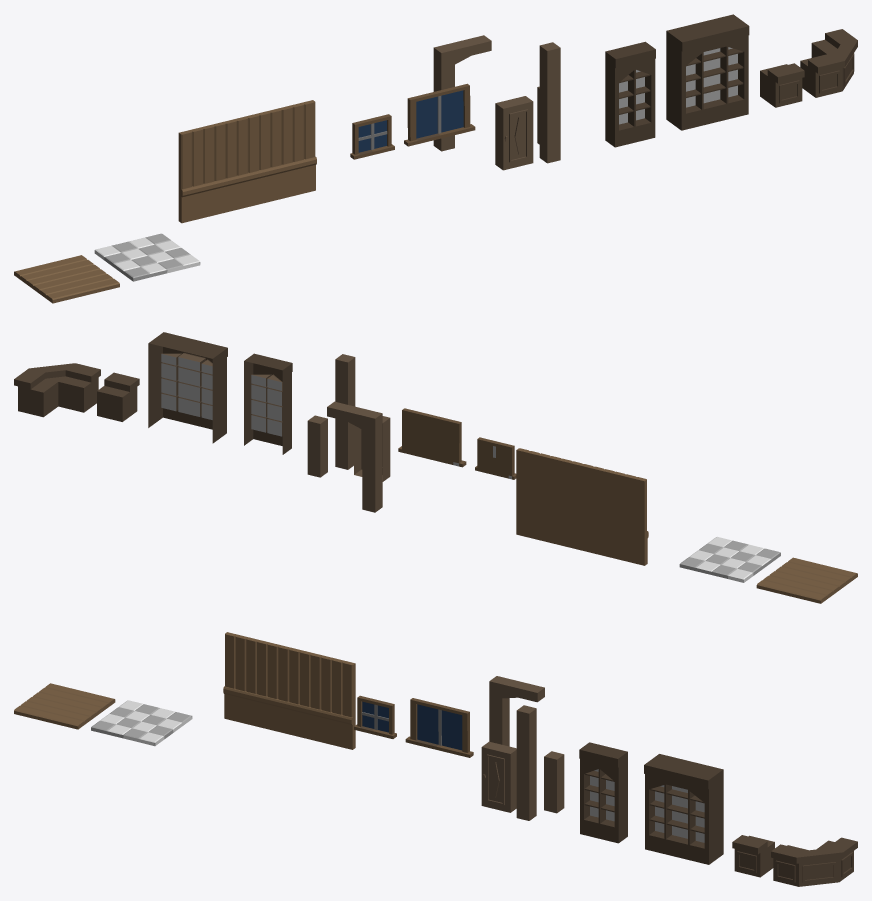
Rendered from ModKitBar.fbx.
3 renders of one model, top to bottom at view 1: azimuth 30°, elevation 25°; view 2: azimuth 150°, elevation 25°; view 3: azimuth 330°, elevation 25°, orthographic. The views are drawn at different scales.
Visible parts, largest first — view 1: MKWoodenWall, MKBarShelfBig, MKBarShelfSmall, MKWindowBigger, MKBarFloor, MKBarTileFloor, MKBarIslandCorner, MKInternalDoor, MKWoodenPillarTall, MKRafters, MKBarIsland, MKWindowSmall; view 2: MKWoodenWall, MKBarShelfBig, MKBarShelfSmall, MKBarIslandCorner, MKWindowBigger, MKBarFloor, MKBarTileFloor, MKRafters, MKWoodenPillarTall, MKBarIsland, MKWindowSmall, MKWoodenPillarSmall (+1 smaller); view 3: MKWoodenWall, MKBarShelfBig, MKBarShelfSmall, MKBarIslandCorner, MKWindowBigger, MKBarFloor, MKBarTileFloor, MKWoodenPillarTall, MKInternalDoor, MKRafters, MKBarIsland, MKWindowSmall (+1 smaller).
Part boxes in pixels (x1,y1,x2,y2): MKWoodenWall: [178, 100, 316, 223]; MKBarShelfBig: [666, 14, 749, 130]; MKBarShelfSmall: [605, 41, 655, 147]; MKWindowBigger: [404, 83, 475, 146]; MKBarFloor: [14, 255, 119, 303]; MKBarTileFloor: [94, 233, 200, 281]; MKBarIslandCorner: [800, 29, 857, 97]; MKInternalDoor: [495, 96, 533, 170]; MKWoodenPillarTall: [539, 42, 560, 163]; MKRafters: [433, 35, 491, 151]; MKBarIsland: [760, 63, 804, 107]; MKWindowSmall: [350, 114, 394, 159]; MKWoodenWall: [516, 448, 648, 565]; MKBarShelfBig: [148, 332, 227, 443]; MKBarShelfSmall: [244, 353, 292, 454]; MKBarIslandCorner: [14, 363, 100, 417]; MKWindowBigger: [398, 408, 466, 467]; MKBarFloor: [756, 557, 857, 603]; MKBarTileFloor: [679, 536, 780, 582]; MKRafters: [327, 401, 382, 512]; MKWoodenPillarTall: [335, 354, 355, 469]; MKBarIsland: [97, 372, 139, 421]; MKWindowSmall: [475, 437, 516, 479]; MKWoodenPillarSmall: [307, 415, 327, 477]; MKWoodenWall: [223, 632, 355, 749]; MKBarShelfBig: [644, 754, 723, 864]; MKBarShelfSmall: [579, 742, 627, 843]; MKBarIslandCorner: [771, 837, 857, 886]; MKWindowBigger: [405, 698, 473, 757]; MKBarFloor: [14, 683, 115, 729]; MKBarTileFloor: [91, 700, 192, 746]; MKWoodenPillarTall: [516, 705, 536, 820]; MKInternalDoor: [481, 741, 516, 812]; MKRafters: [489, 676, 544, 746]; MKBarIsland: [732, 835, 774, 877]; MKWindowSmall: [354, 695, 396, 738].
Bounding box in the file's own units: 62.3 × 8.31 × 8.
